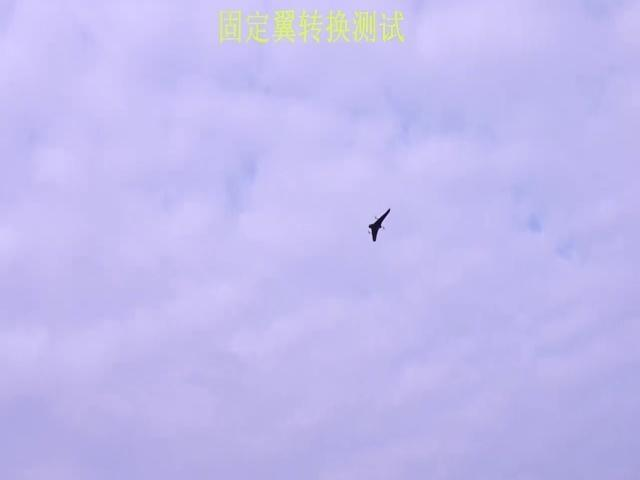Airplane: (367, 208, 391, 242)
